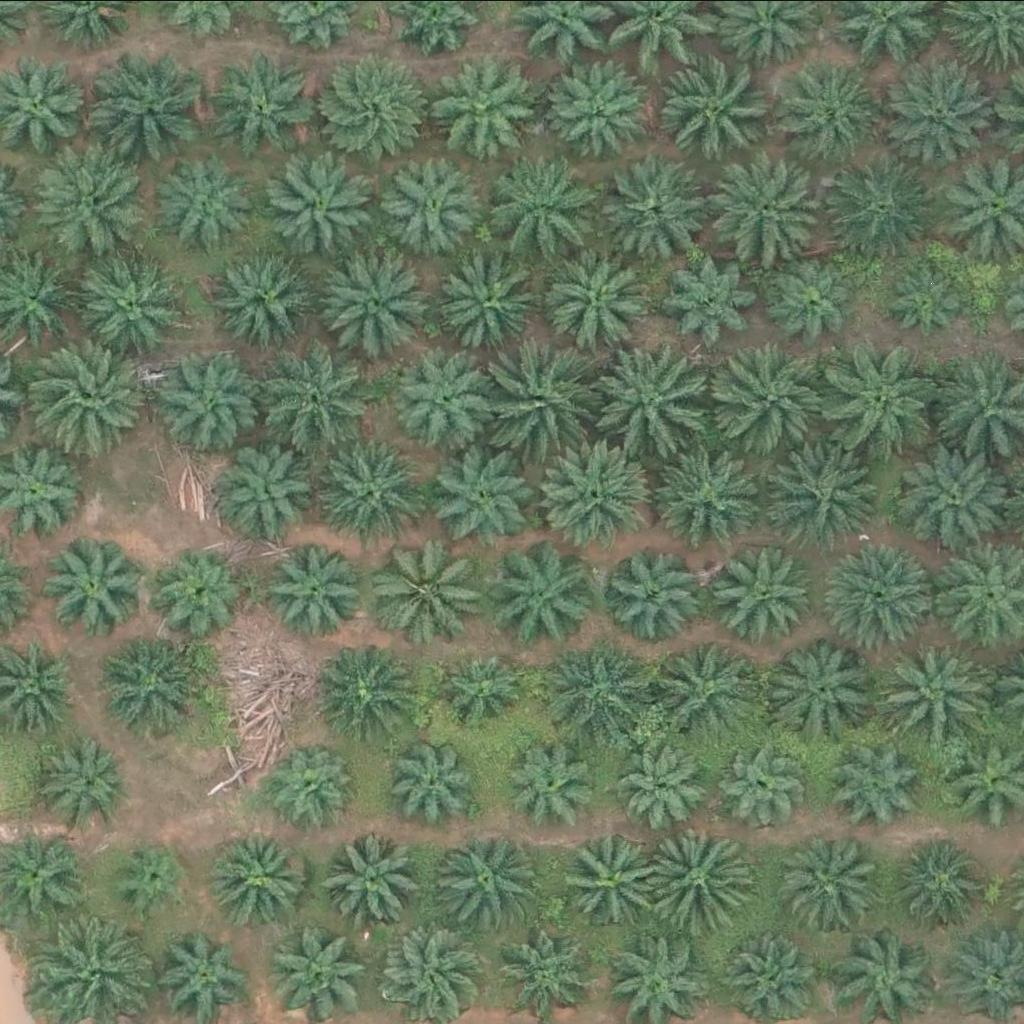Kelapa_Sawit: (606, 154, 720, 267), (763, 436, 877, 549), (32, 148, 146, 261), (659, 51, 772, 164), (489, 346, 602, 459), (718, 337, 831, 450), (899, 443, 1012, 556), (653, 436, 766, 549), (490, 539, 603, 652), (825, 537, 938, 650), (887, 631, 1000, 744), (645, 633, 758, 746), (545, 632, 658, 745), (310, 56, 423, 169), (267, 149, 380, 262), (311, 438, 424, 551), (823, 343, 937, 455), (644, 823, 758, 935), (88, 52, 202, 164), (881, 61, 994, 173), (488, 148, 601, 260), (720, 147, 833, 259), (822, 148, 935, 260), (541, 242, 654, 354), (601, 341, 714, 453), (537, 438, 650, 550), (316, 244, 429, 356), (261, 340, 374, 452), (151, 346, 264, 458), (31, 339, 144, 451), (374, 530, 487, 642), (786, 58, 887, 158), (549, 52, 650, 152), (663, 247, 764, 347), (608, 547, 709, 647), (712, 539, 813, 639), (776, 636, 877, 736), (568, 824, 669, 924), (431, 63, 532, 163), (380, 154, 481, 254), (151, 155, 252, 255), (81, 256, 182, 356), (214, 252, 315, 352), (442, 257, 543, 357), (397, 348, 498, 448), (218, 441, 319, 541), (432, 448, 533, 548), (266, 536, 367, 636), (41, 533, 142, 633), (101, 637, 202, 737), (779, 836, 879, 936), (213, 58, 313, 158), (320, 642, 420, 742), (209, 828, 309, 928), (322, 828, 422, 928), (437, 829, 537, 929), (267, 920, 367, 1020), (512, 745, 600, 833), (624, 741, 712, 829), (895, 843, 983, 931), (513, 922, 601, 1010), (433, 645, 521, 733), (43, 735, 131, 823), (767, 248, 855, 335), (721, 740, 809, 827), (840, 739, 928, 826), (153, 546, 241, 633), (387, 739, 475, 826), (264, 742, 352, 829), (164, 932, 252, 1019), (113, 840, 189, 915), (890, 262, 966, 337)
